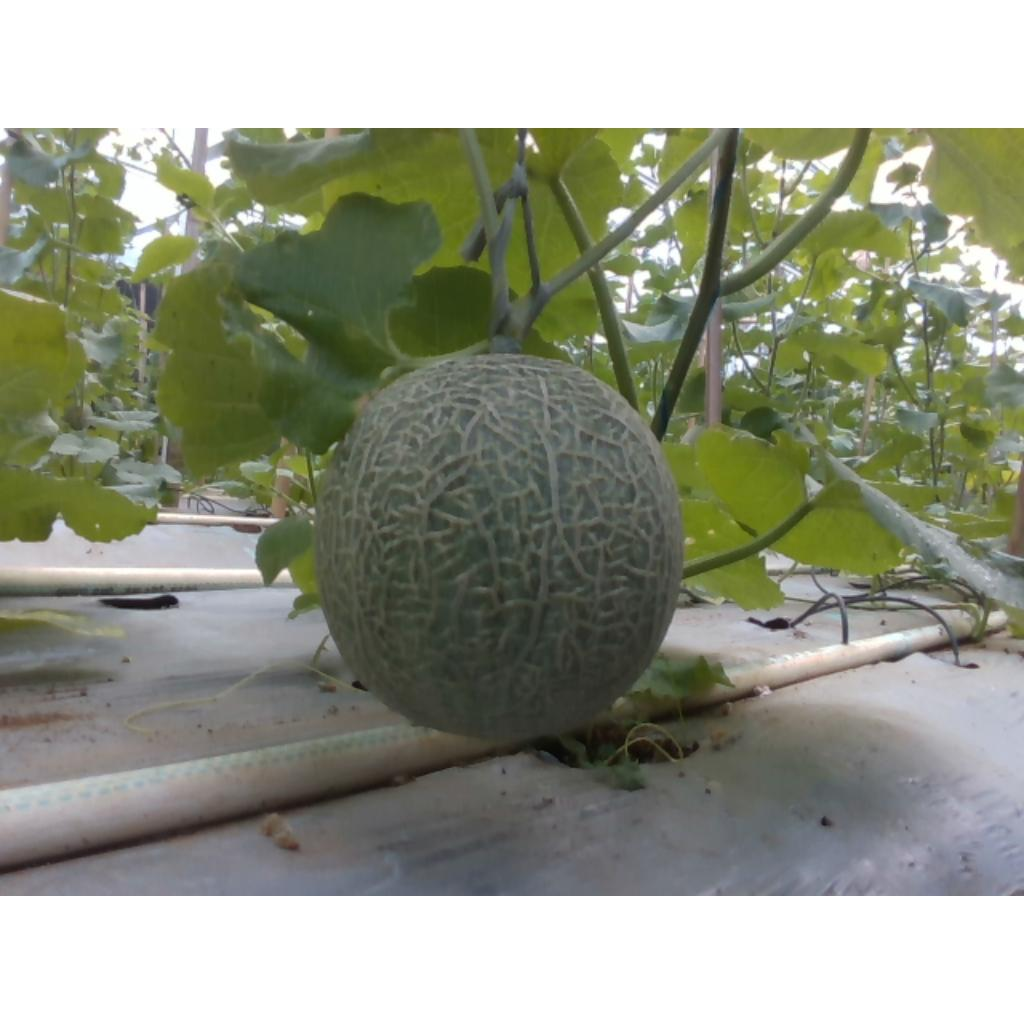melon: (315, 355, 683, 738)
